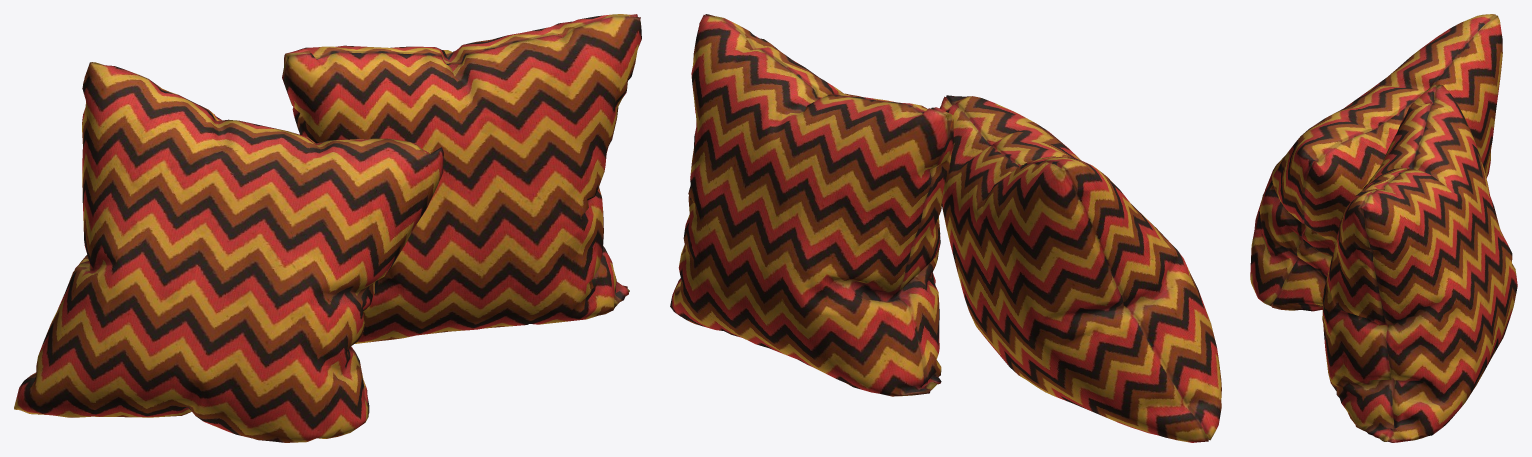
The model's file is throw_pillows_01.glb.
The picture shows the model from 3 angles, left to right: view 1: azimuth 30°, elevation 25°; view 2: azimuth 150°, elevation 25°; view 3: azimuth 270°, elevation 25°; orthographic projection. The views are drawn at different scales.
Parts seen in each view (by area): view 1: throw_pillows_01_pillow01, throw_pillows_01_pillow02; view 2: throw_pillows_01_pillow02, throw_pillows_01_pillow01; view 3: throw_pillows_01_pillow02, throw_pillows_01_pillow01.
Part boxes in pixels (box(x1,y1,x2,y2)): throw_pillows_01_pillow01: box(14, 62, 443, 442); throw_pillows_01_pillow02: box(282, 14, 641, 343); throw_pillows_01_pillow02: box(670, 14, 953, 396); throw_pillows_01_pillow01: box(939, 95, 1221, 442); throw_pillows_01_pillow02: box(1322, 84, 1517, 442); throw_pillows_01_pillow01: box(1250, 14, 1502, 311).
Bounding box in the file's own units: 0.9401 × 0.4501 × 0.4518.
Materials: 1 (1 with a texture image).
